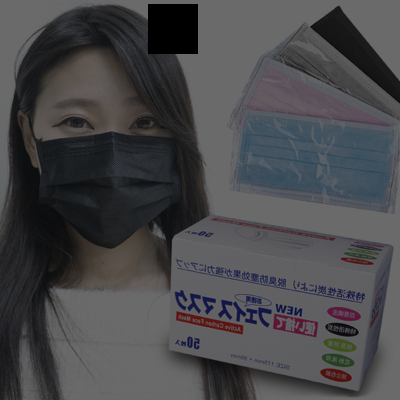with_mask: (28, 92, 184, 251)
